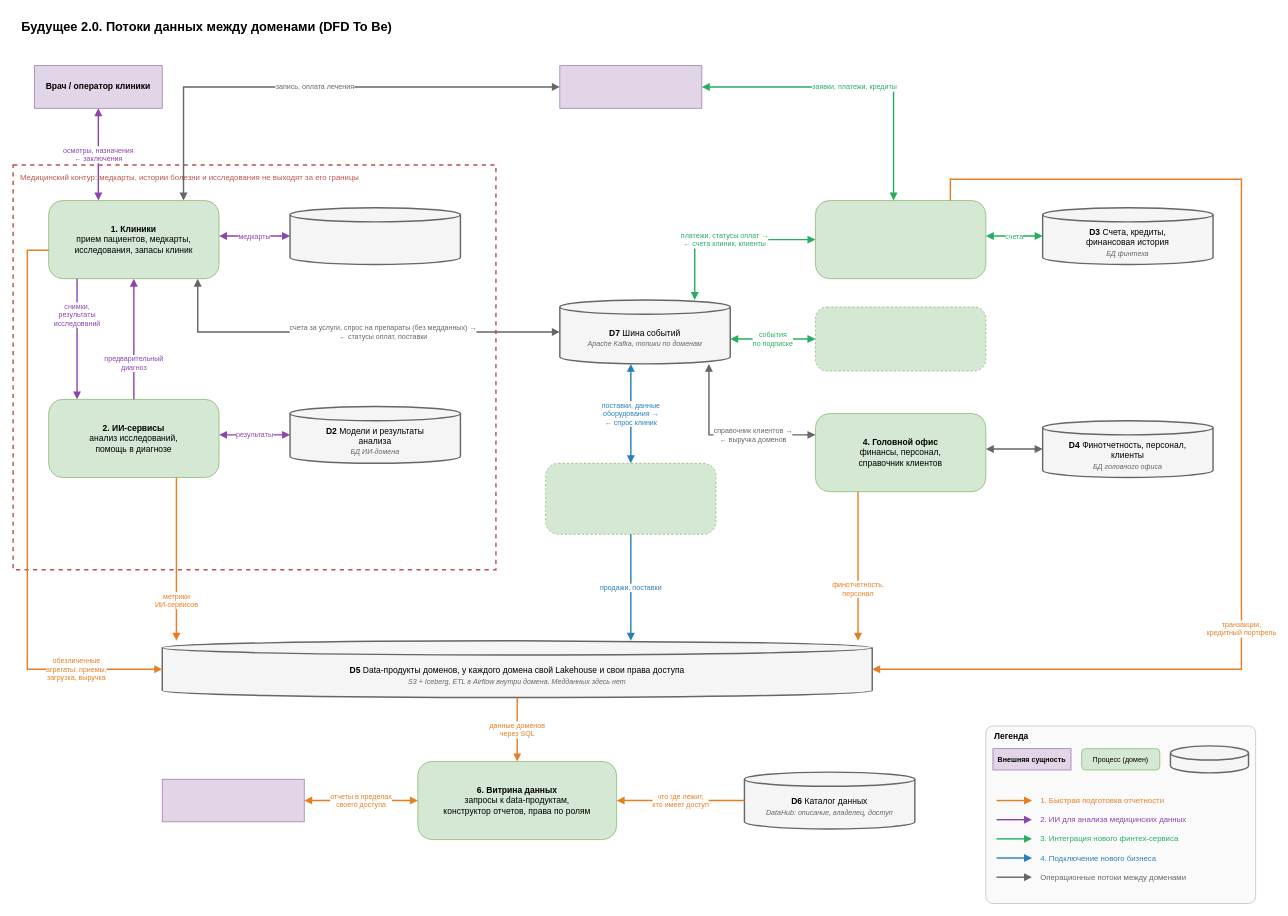
This 1288x916 diagram has some shape labels left out. Each missing label, with the box of its shape:
3. Финтех счета, платежи, кредиты: (815, 200, 986, 279)
3.1. Новый финтех-сервис подписывается на нужные топики шины: (815, 306, 986, 371)
5. Новые домены фарма, электроника для медоборудования: (545, 463, 716, 534)
D1 Медкарты, истории болезни, исследования MS SQL Server (легаси): (289, 207, 461, 265)
Клиент: (559, 65, 702, 108)
Сотрудник / руководство: (162, 779, 304, 822)
Хранилище: (1169, 745, 1249, 773)
